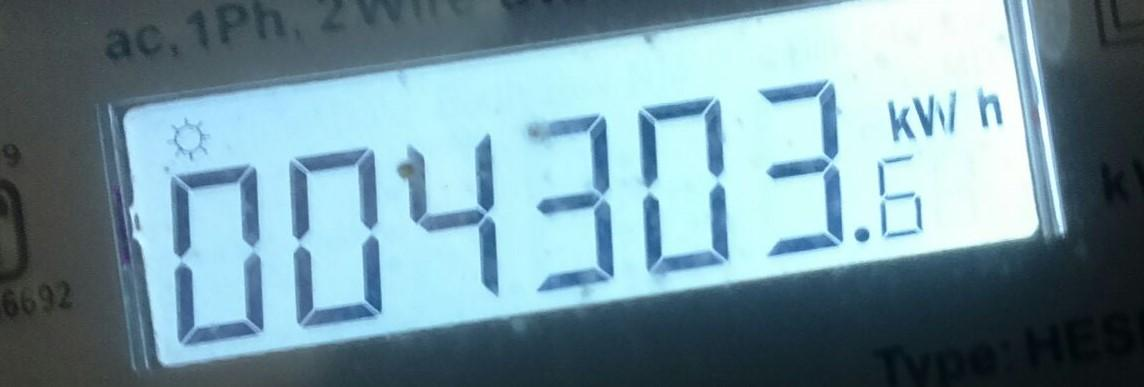.: (883, 86, 1012, 142)
0: (836, 216, 879, 260)
1: (609, 78, 742, 272), (157, 136, 279, 341), (288, 126, 392, 327)
4: (736, 46, 850, 267), (511, 96, 623, 298)
5: (402, 129, 522, 309)
7: (872, 146, 950, 266)
